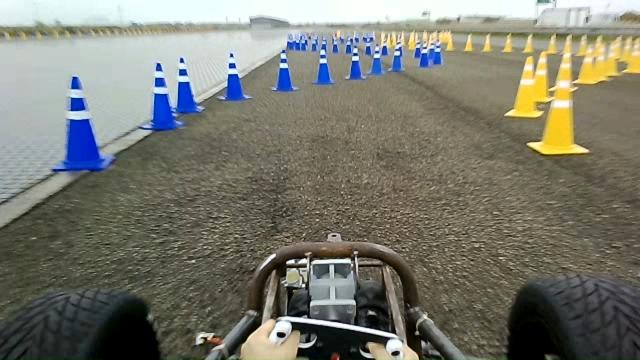blue cone: (51, 74, 115, 172), (138, 62, 184, 131), (173, 56, 206, 113), (216, 52, 252, 101), (270, 49, 299, 92), (312, 48, 334, 85), (344, 46, 366, 80), (370, 44, 383, 75), (390, 42, 402, 72), (418, 40, 430, 68), (432, 46, 443, 65), (412, 42, 422, 58)
yellow cone: (526, 52, 590, 156), (504, 55, 544, 119), (549, 52, 576, 92), (533, 50, 553, 102), (572, 46, 595, 84)
